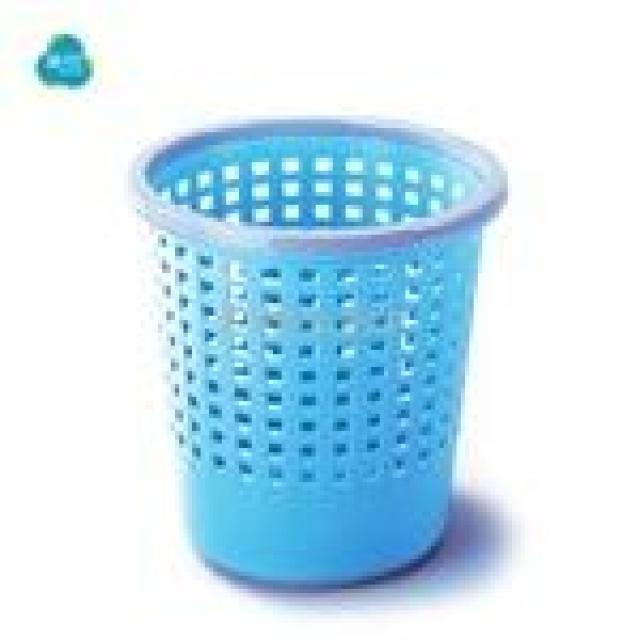dustbin: (122, 106, 511, 596)
